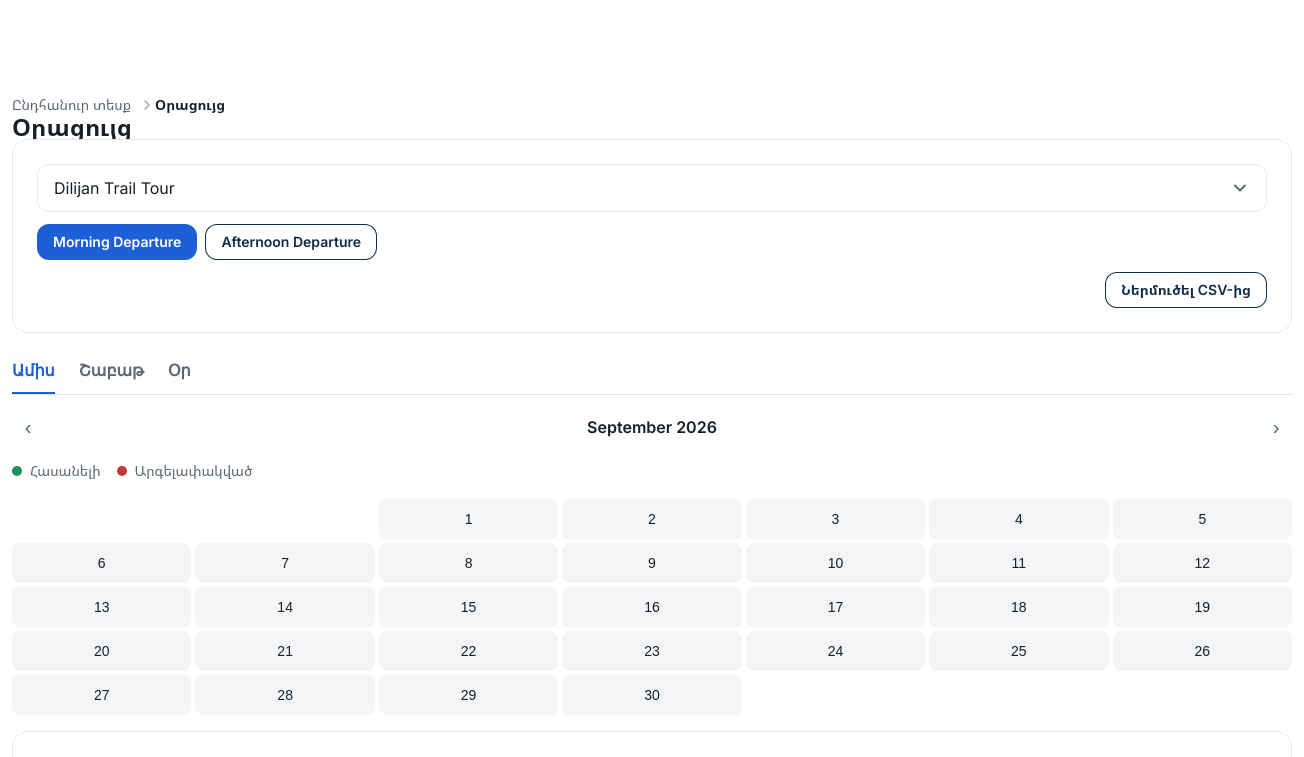
Test: PartnerCalendarPageContent (apps/web/src/modules/partner) › Week/Day views (Sprint 5 P0 — real intraday scheduling) › a time-sliced unit (time_slot_start set) shows a real hour-axis Week grid with a block per sibling departure
What coordinates should you click on to do the following:
click the tab "Շաբաթ"
I would click on:
 (111, 372)
Its box is 79,349 -> 144,394.
(page scrolled)
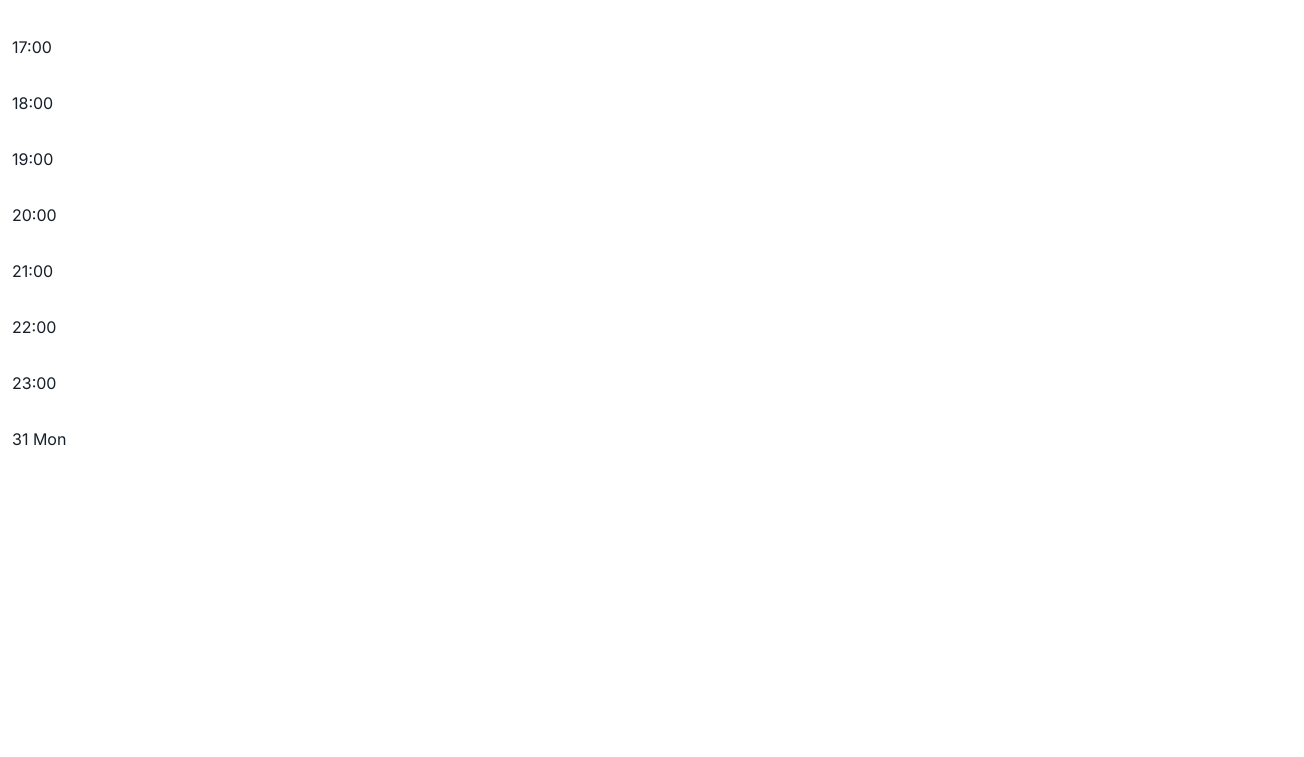
Check: the text "23:00" is shown, box 12,373 -> 56,393
